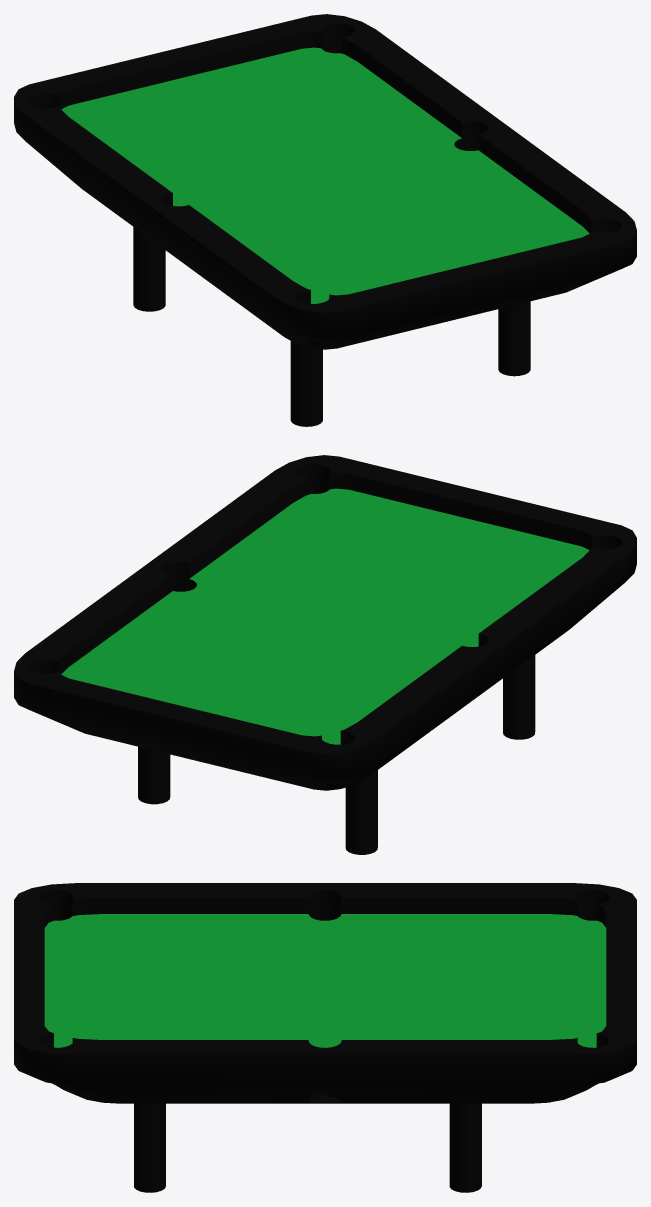
The model's file is pool_table.fbx.
3 renders of one model, top to bottom at view 1: azimuth 30°, elevation 25°; view 2: azimuth 150°, elevation 25°; view 3: azimuth 270°, elevation 25°, orthographic.
Parts seen in each view (by area): view 1: Cube.007; view 2: Cube.007; view 3: Cube.007.
Part boxes in pixels (<box>): Cube.007: <box>14,14,636,426</box>; Cube.007: <box>14,455,636,854</box>; Cube.007: <box>14,883,636,1192</box>.
Size of the model in its own units: 170 by 77.05 by 260.
